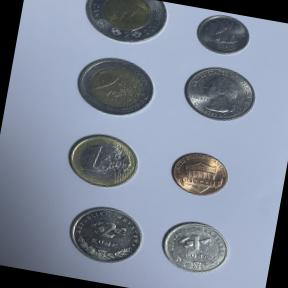coin: (69, 50, 160, 122), (62, 198, 148, 271), (176, 59, 262, 129), (60, 126, 144, 194), (77, 0, 171, 50), (164, 145, 233, 202), (189, 8, 256, 61)
